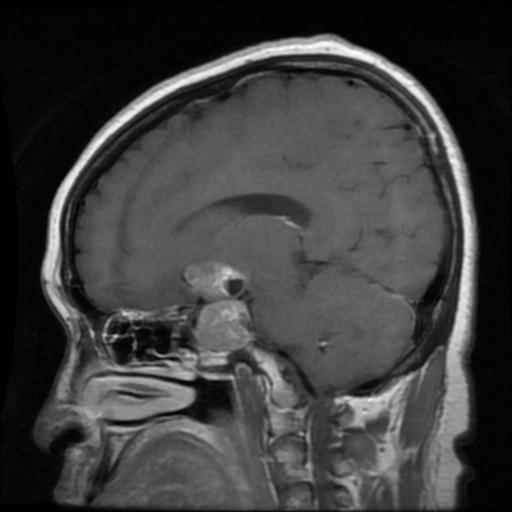Pituirity_tumour: (184, 263, 249, 353)
